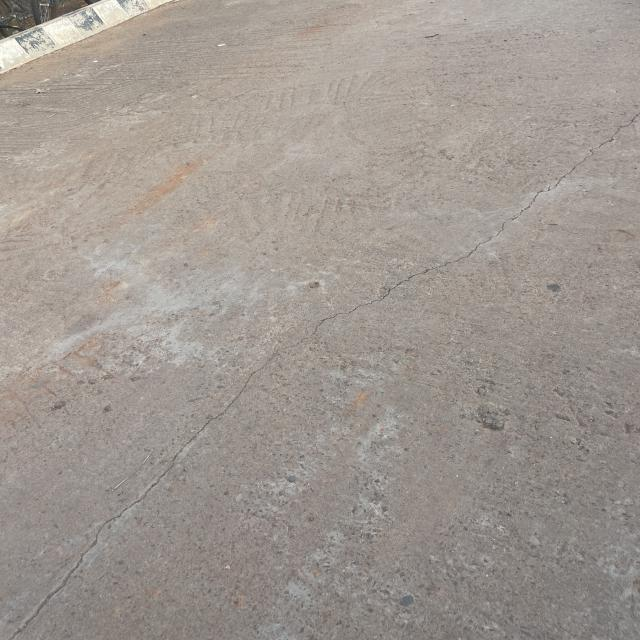D01: (38, 246, 372, 612)
